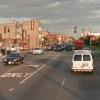Car: (4, 51, 24, 67)
